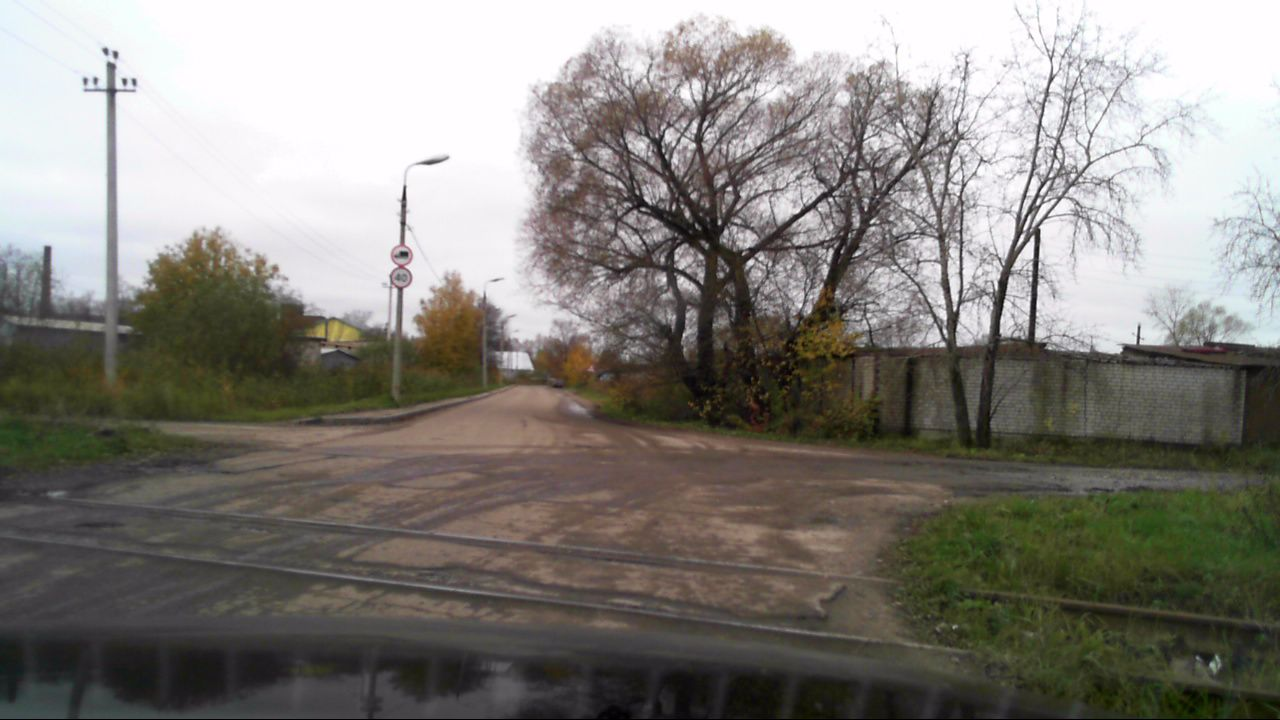speed_warning_40: (390, 268, 413, 289)
